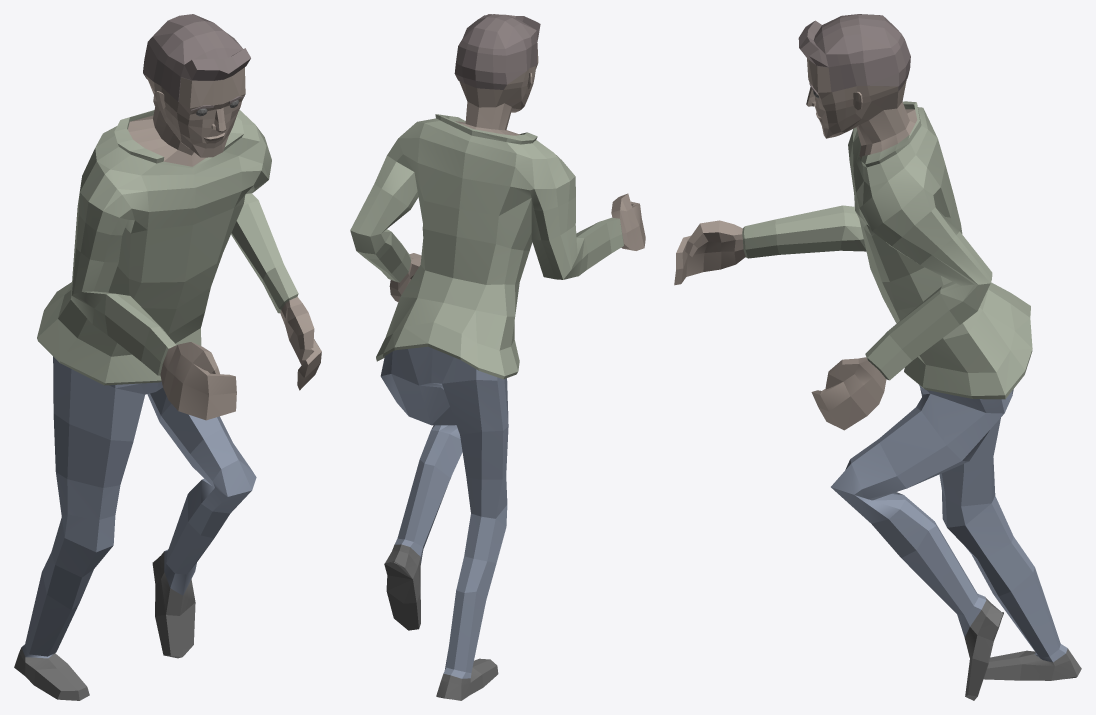
File: run_4.glb
3 views of the same model, side by side, from view 1: azimuth 30°, elevation 25°; view 2: azimuth 150°, elevation 25°; view 3: azimuth 270°, elevation 25° (orthographic). The views are drawn at different scales.
Visible parts, largest first — view 1: BaseHuman_baked; view 2: BaseHuman_baked; view 3: BaseHuman_baked.
Part boxes in pixels (x1,y1,x2,y2): BaseHuman_baked: (14, 14, 321, 700); BaseHuman_baked: (350, 14, 645, 700); BaseHuman_baked: (674, 14, 1081, 700).
Size of the model in its own units: 1.48 by 4.57 by 2.48.
